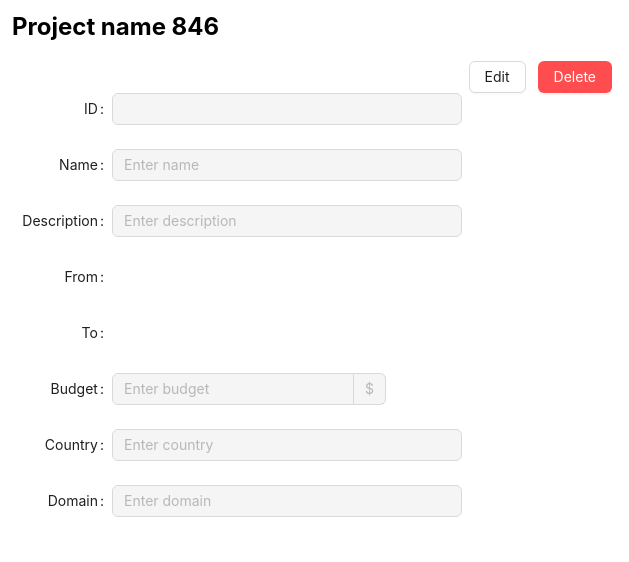
Test: Test Project Detail Screen › test update mode › display error when submit empty data
The width and height of the screenshot is (629, 562).
press edit button
Click the button "Edit" at (497, 77), box [469,61,526,93]
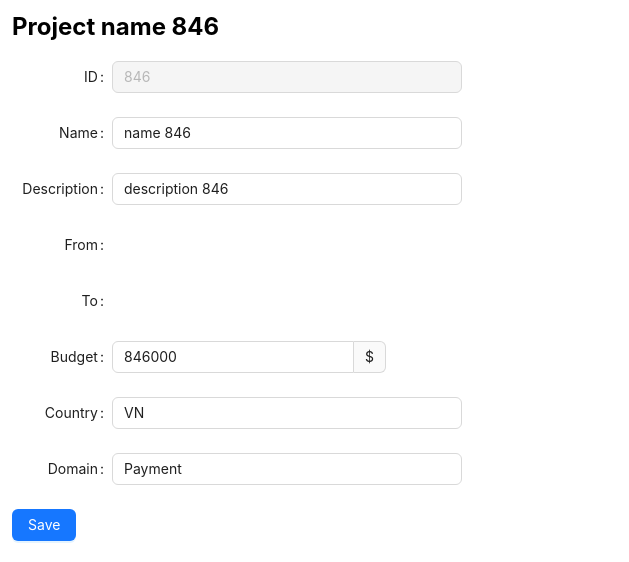
clear name field
Clear the field labelled "Name" at (287, 133), box [112,117,462,149]
clear description field
Clear the field labelled "Description" at (287, 189), box [112,173,462,205]
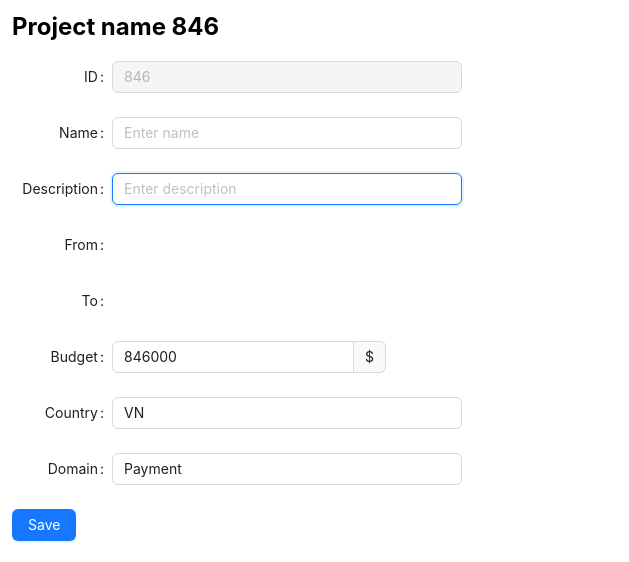
clear budget field
Clear the number field labelled "Budget" at (233, 357), box [113,342,353,372]
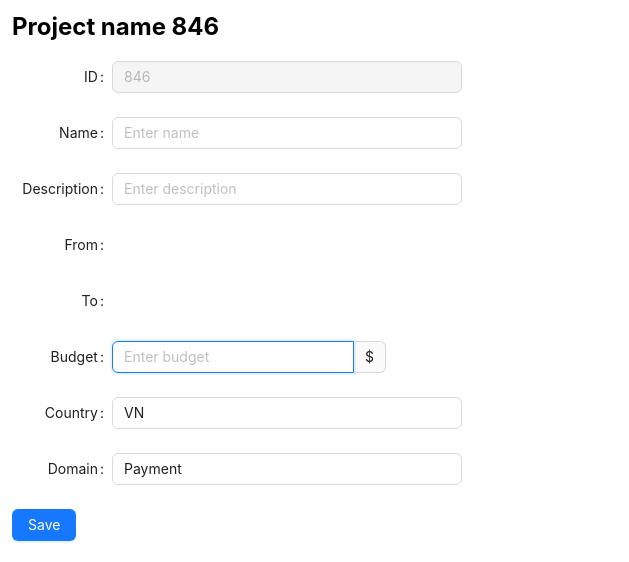
clear country field
Clear the field labelled "Country" at (287, 413), box [112,397,462,429]
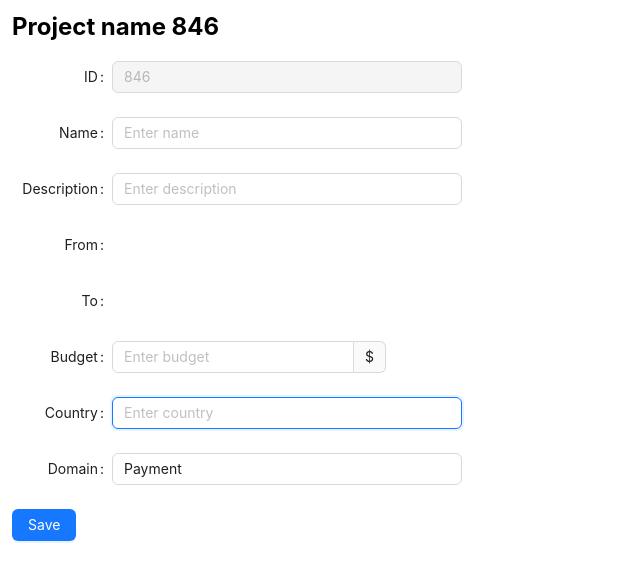
clear domain field
Clear the field labelled "Domain" at (287, 469), box [112,453,462,485]
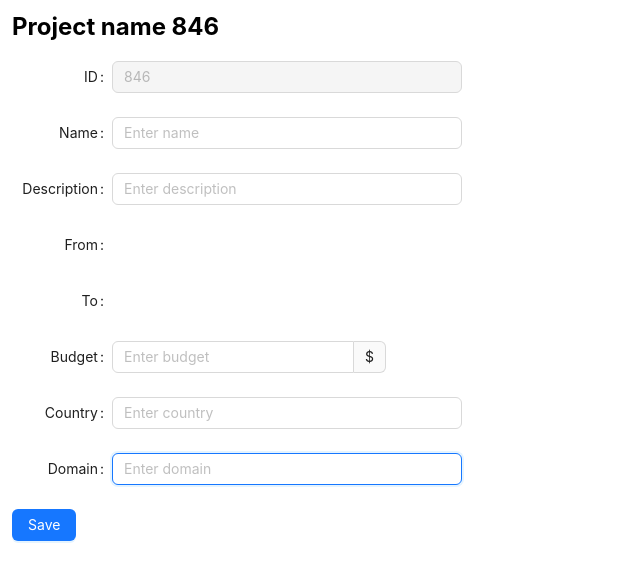
Click the button "Save" at (44, 525), box [12,509,76,541]
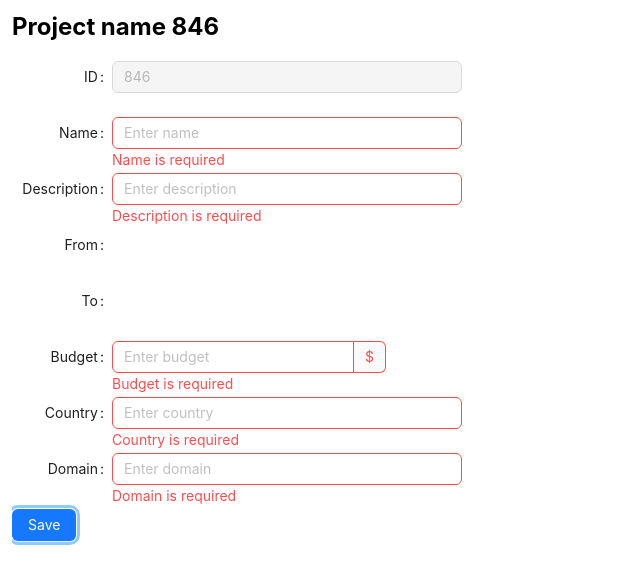
Result: the text "Name is required" is shown at [112,151,225,168]
Result: the text "Description is required" is shown at [112,207,262,224]
Result: the text "Budget is required" is shown at [112,375,233,392]
